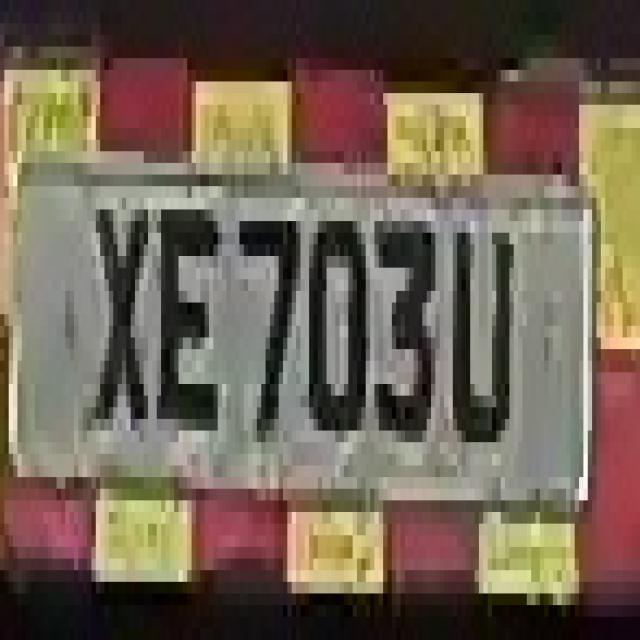0: (309, 174, 370, 488)
3: (366, 186, 435, 489)
7: (231, 174, 305, 488)
E: (152, 151, 222, 477)
U: (448, 198, 514, 465)
X: (91, 140, 157, 500)
